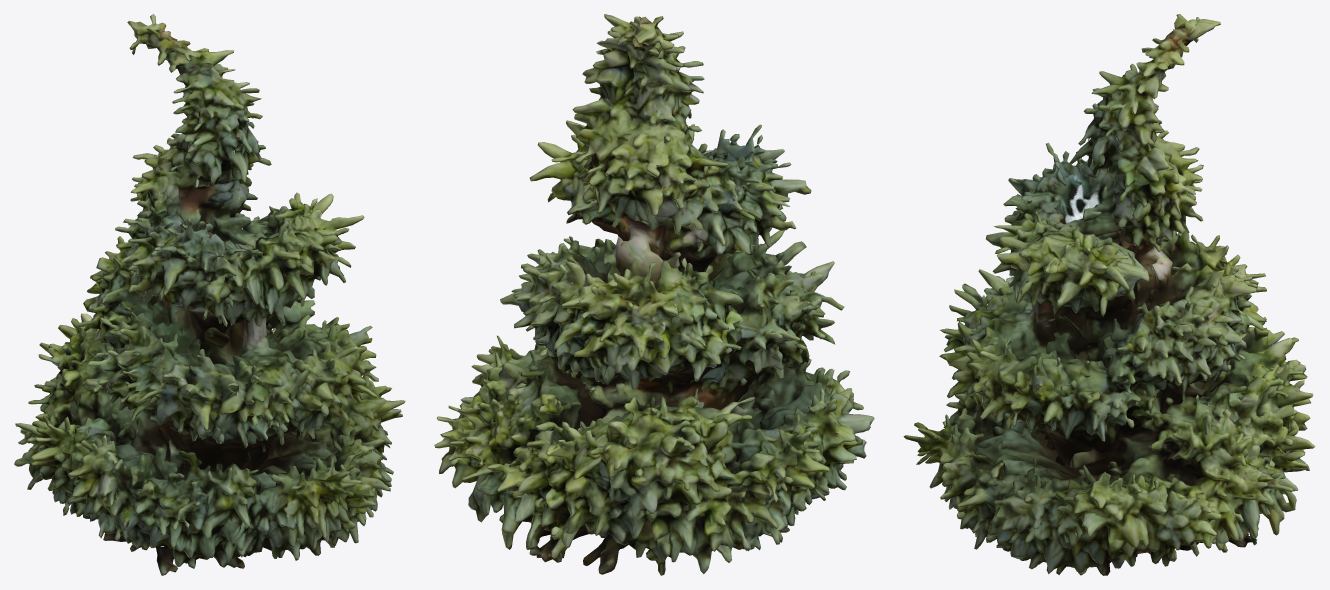
File: nature-bush-topiary.glb
3 renders of one model, left to right at view 1: azimuth 30°, elevation 25°; view 2: azimuth 150°, elevation 25°; view 3: azimuth 270°, elevation 25°, orthographic. The views are drawn at different scales.
Visible parts, largest first — view 1: tripo_node_87fb8cb2-9d48-41f3-9ebb-71c2c1f983a0; view 2: tripo_node_87fb8cb2-9d48-41f3-9ebb-71c2c1f983a0; view 3: tripo_node_87fb8cb2-9d48-41f3-9ebb-71c2c1f983a0.
Boxes of the visible parts, <box> form: tripo_node_87fb8cb2-9d48-41f3-9ebb-71c2c1f983a0: <box>14,14,405,575</box>; tripo_node_87fb8cb2-9d48-41f3-9ebb-71c2c1f983a0: <box>434,14,874,575</box>; tripo_node_87fb8cb2-9d48-41f3-9ebb-71c2c1f983a0: <box>903,14,1315,575</box>.
Bounding box in the file's own units: 1.42 × 2 × 1.44.
1 material, 1 textured.
